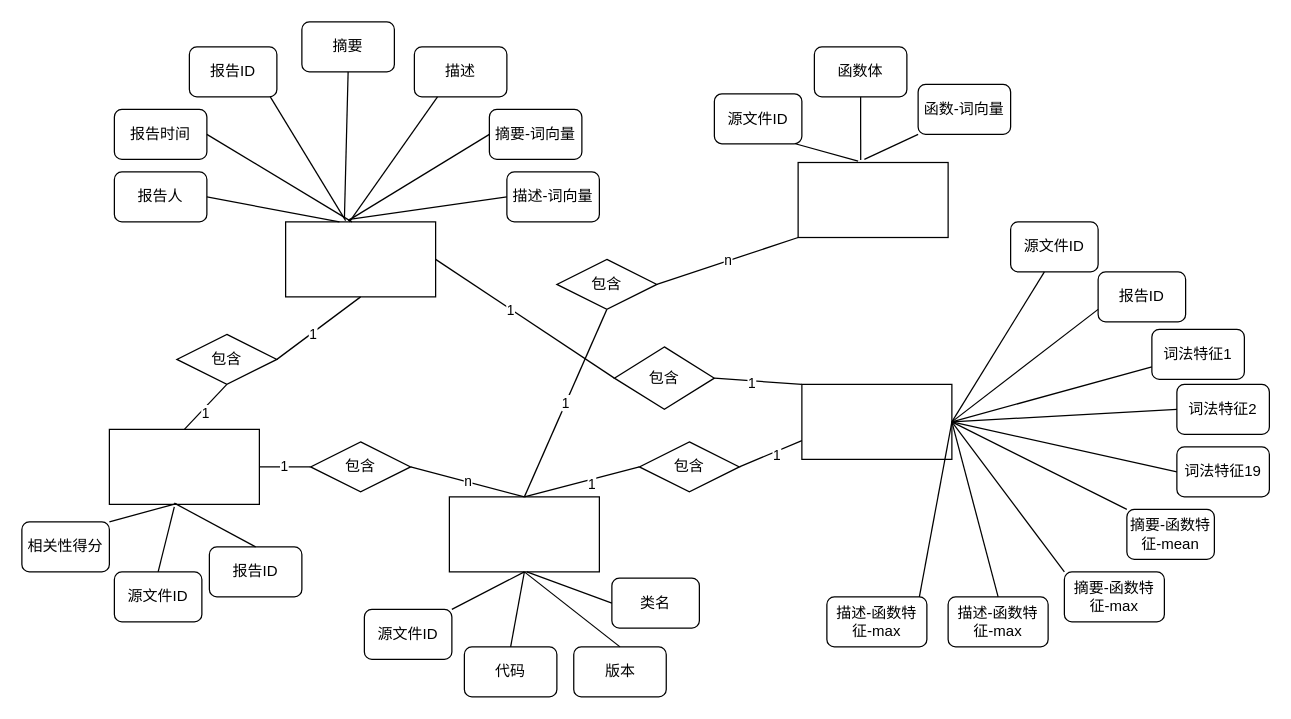
Image size: 1291x719. Some labels were removed from this diagram. Each missing label, with the centre of its shape:
"bug修复记录" belongs at pixel 183 466.
"bug报告" belongs at pixel 360 259.
"函数表" belongs at pixel 872 199.
"源文件" belongs at pixel 523 534.
"特征表" belongs at pixel 876 421.
